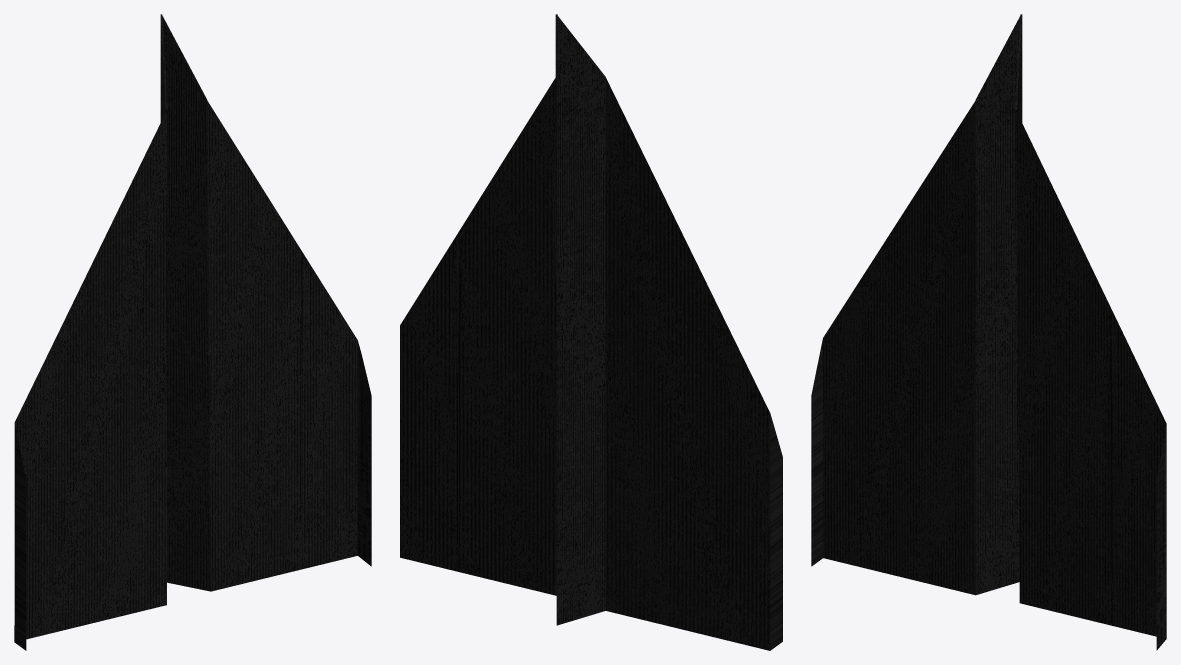
File: DarkPaperPlane.obj
The picture shows the model from 3 angles, left to right: view 1: azimuth 30°, elevation 25°; view 2: azimuth 150°, elevation 25°; view 3: azimuth 330°, elevation 25°; orthographic projection. The views are drawn at different scales.
Visible parts, largest first — view 1: Layer0_001; view 2: Layer0_001; view 3: Layer0_001.
Part boxes in pixels (left/top/right/bottom): Layer0_001: left=14, top=14, right=371, bottom=650; Layer0_001: left=400, top=14, right=782, bottom=650; Layer0_001: left=811, top=14, right=1166, bottom=650.
Size of the model in its own units: 12.64 by 19.84 by 2.39.
Materials: 1 (1 with a texture image).
